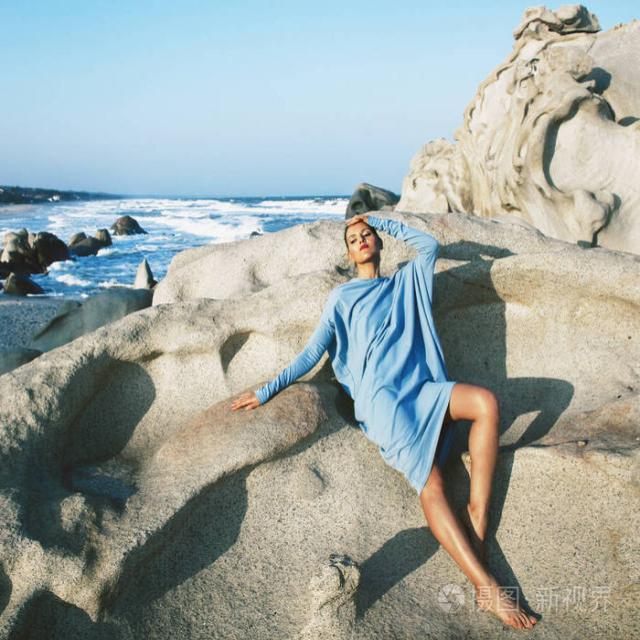reef: (10, 202, 172, 295)
